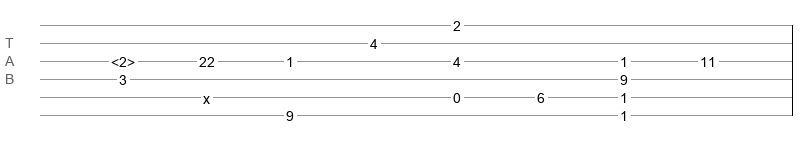0: (453, 90, 461, 100)
1: (286, 54, 294, 64), (620, 108, 628, 118), (620, 54, 628, 64), (620, 90, 628, 100)
11: (700, 54, 716, 64)
2: (453, 18, 461, 28)
22: (199, 54, 215, 64)
3: (119, 72, 127, 82)
4: (370, 36, 378, 46), (453, 54, 461, 64)
6: (537, 90, 545, 100)
9: (286, 108, 294, 118), (620, 72, 628, 82)
harmonic: (111, 54, 135, 64)
x: (203, 91, 210, 99)
